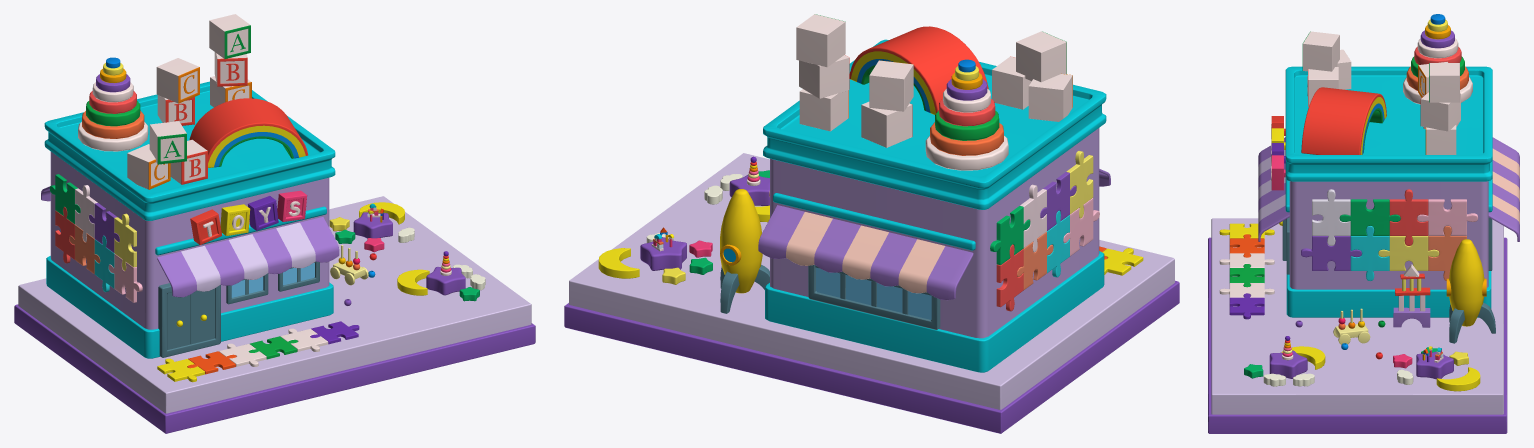
Rendered from Store_Island_9.glb.
The picture shows the model from 3 angles, left to right: view 1: azimuth 30°, elevation 25°; view 2: azimuth 150°, elevation 25°; view 3: azimuth 270°, elevation 25°; orthographic projection. The views are drawn at different scales.
Parts seen in each view (by area): view 1: Store_9_Toy_Shop_1, Store_9_Base_1, Store_9_Toy_Rainbow, Store_9_Toy_Pyramid_1, Store_9_Toy_Cubes_set, Store_9_Toy_Cube_C_2, Store_9_Toy_Cube_A, Store_9_Toy_Cube_C, Store_9_Toy_Cube_B, Store_9_Toy_Cube_B_2, Store_9_Table_Star_1, Store_9_Table_Star_2 (+9 smaller); view 2: Store_9_Toy_Shop_1, Store_9_Base_1, Store_9_Toy_Pyramid_1, Store_9_Toy_Cubes_set, Store_9_Toy_Rainbow, Store_9_Toy_Rocket, Store_9_Toy_Cube_A, Store_9_Toy_Cube_C_2, Store_9_Toy_Cube_C, Store_9_Toy_Cube_B_2, Store_9_Toy_Cube_B, Store_9_Table_Star_2 (+3 smaller); view 3: Store_9_Toy_Shop_1, Store_9_Base_1, Store_9_Toy_Rainbow, Store_9_Toy_Cubes_set, Store_9_Toy_Rocket, Store_9_Toy_Pyramid_1, Store_9_Toys_set_2, Store_9_Toy_Cube_A, Store_9_Table_Star_2, Store_9_Table_Star_1, Store_9_Puzzle_17, Store_9_Toy_Cube_B (+10 smaller).
Part boxes in pixels (x1=…): Store_9_Toy_Shop_1: x1=41, y1=81, x2=339, y2=358; Store_9_Base_1: x1=14, y1=196, x2=535, y2=433; Store_9_Toy_Rainbow: x1=189, y1=98, x2=308, y2=167; Store_9_Toy_Pyramid_1: x1=78, y1=57, x2=148, y2=151; Store_9_Toy_Cubes_set: x1=209, y1=14, x2=251, y2=107; Store_9_Toy_Cube_C_2: x1=156, y1=58, x2=199, y2=103; Store_9_Toy_Cube_A: x1=149, y1=121, x2=186, y2=164; Store_9_Toy_Cube_C: x1=127, y1=144, x2=170, y2=189; Store_9_Toy_Cube_B: x1=170, y1=139, x2=207, y2=184; Store_9_Toy_Cube_B_2: x1=157, y1=95, x2=194, y2=125; Store_9_Table_Star_1: x1=426, y1=267, x2=465, y2=295; Store_9_Table_Star_2: x1=353, y1=212, x2=392, y2=238; Store_9_Toy_Shop_1: x1=758, y1=39, x2=1110, y2=372; Store_9_Base_1: x1=564, y1=153, x2=1179, y2=433; Store_9_Toy_Pyramid_1: x1=925, y1=59, x2=1008, y2=170; Store_9_Toy_Cubes_set: x1=796, y1=14, x2=849, y2=131; Store_9_Toy_Rainbow: x1=849, y1=26, x2=988, y2=114; Store_9_Toy_Rocket: x1=720, y1=189, x2=769, y2=313; Store_9_Toy_Cube_A: x1=1016, y1=31, x2=1066, y2=82; Store_9_Toy_Cube_C_2: x1=869, y1=60, x2=913, y2=111; Store_9_Toy_Cube_C: x1=1028, y1=73, x2=1072, y2=121; Store_9_Toy_Cube_B_2: x1=861, y1=101, x2=912, y2=147; Store_9_Toy_Cube_B: x1=992, y1=56, x2=1031, y2=109; Store_9_Table_Star_2: x1=640, y1=237, x2=686, y2=270; Store_9_Toy_Shop_1: x1=1258, y1=66, x2=1519, y2=317; Store_9_Base_1: x1=1208, y1=218, x2=1507, y2=433; Store_9_Toy_Rainbow: x1=1301, y1=87, x2=1386, y2=154; Store_9_Toy_Cubes_set: x1=1420, y1=63, x2=1460, y2=154; Store_9_Toy_Rocket: x1=1446, y1=239, x2=1495, y2=343; Store_9_Toy_Pyramid_1: x1=1403, y1=14, x2=1472, y2=104; Store_9_Toys_set_2: x1=1393, y1=264, x2=1430, y2=327; Store_9_Toy_Cube_A: x1=1302, y1=31, x2=1339, y2=71; Store_9_Table_Star_2: x1=1416, y1=351, x2=1453, y2=379; Store_9_Table_Star_1: x1=1269, y1=350, x2=1307, y2=378; Store_9_Puzzle_17: x1=1229, y1=293, x2=1264, y2=319; Store_9_Toy_Cube_B: x1=1307, y1=67, x2=1338, y2=106.
Size of the model in its own units: 15.81 by 11.37 by 11.67.
Materials: 42 (42 with a texture image).
